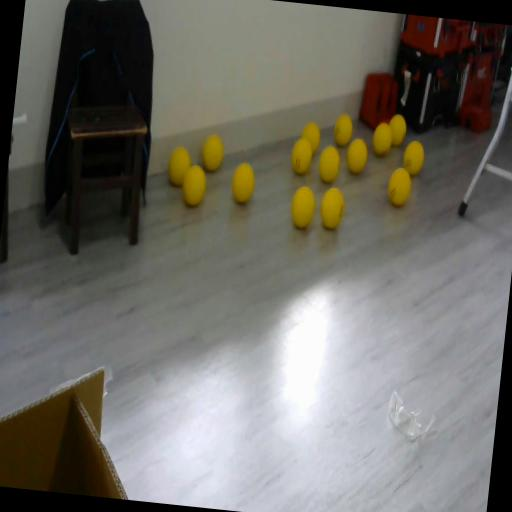FUEL: (288, 184, 318, 230), (180, 162, 208, 208), (318, 186, 346, 230), (230, 160, 256, 205), (199, 132, 226, 174), (386, 166, 412, 208), (166, 146, 192, 186), (316, 144, 342, 184), (344, 137, 370, 175), (401, 139, 426, 177), (299, 120, 322, 157), (372, 121, 394, 157), (332, 113, 354, 147), (387, 112, 408, 146)
